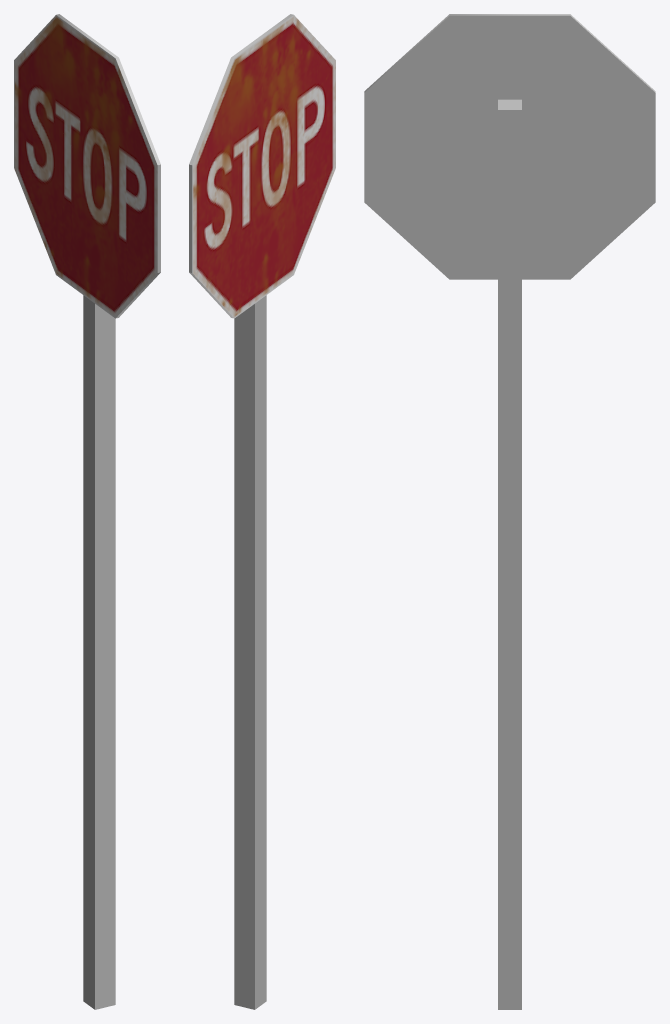
File: trafficSign_stop.fbx
The picture shows the model from 3 angles, left to right: view 1: azimuth 30°, elevation 25°; view 2: azimuth 150°, elevation 25°; view 3: azimuth 270°, elevation 25°; orthographic projection.
Visible parts, largest first — view 1: trafficSign_stop; view 2: trafficSign_stop; view 3: trafficSign_stop.
Part boxes in pixels (<box>): trafficSign_stop: <box>14,14,160,1009</box>; trafficSign_stop: <box>189,14,335,1009</box>; trafficSign_stop: <box>364,14,655,1009</box>.
Size of the model in its own units: 7.02 by 273 by 73.36.
